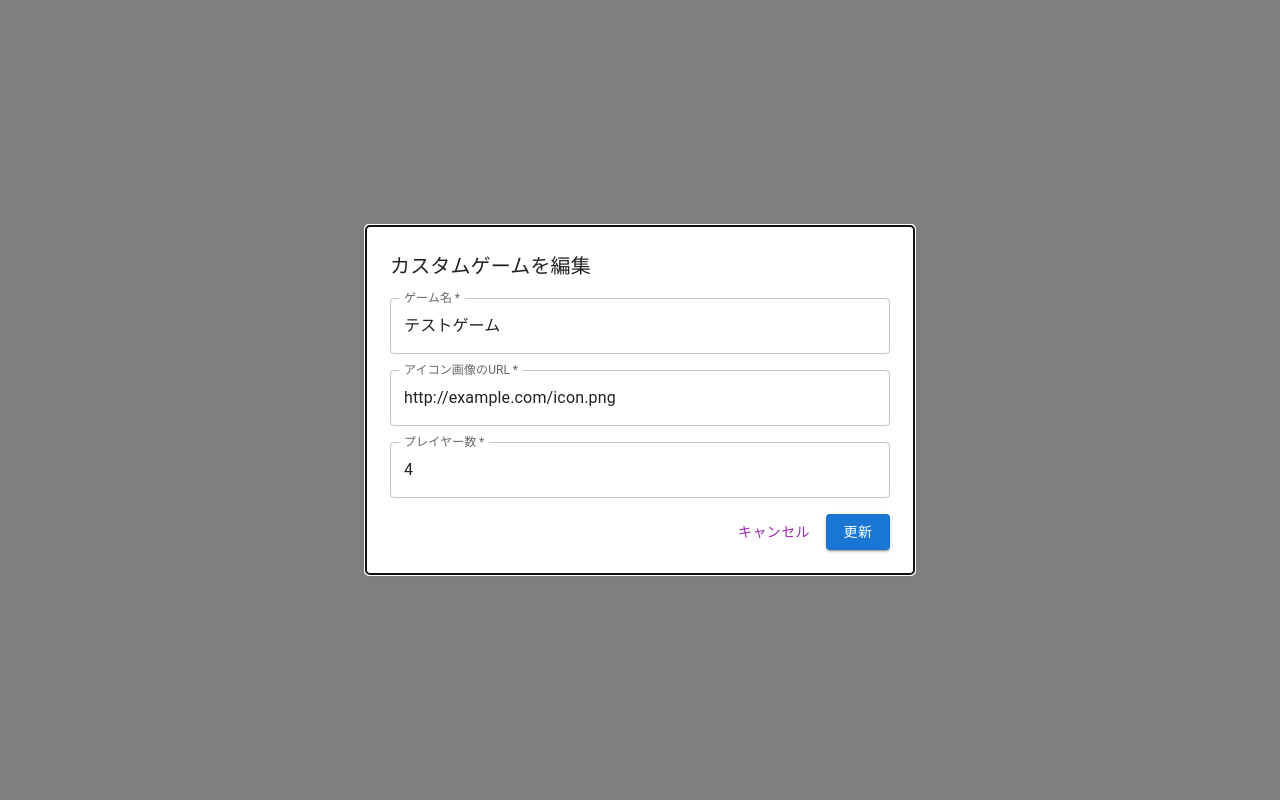
it: EditGameModal › 無効な値を入力すると、バリデーションエラーが表示される
Expected: the heading "カスタムゲームを編集" is shown, [390, 254, 591, 278]
userEvent を使用して入力とクリックを行う
Clear the field labelled "ゲーム名" at (640, 326), box [390, 298, 890, 354]
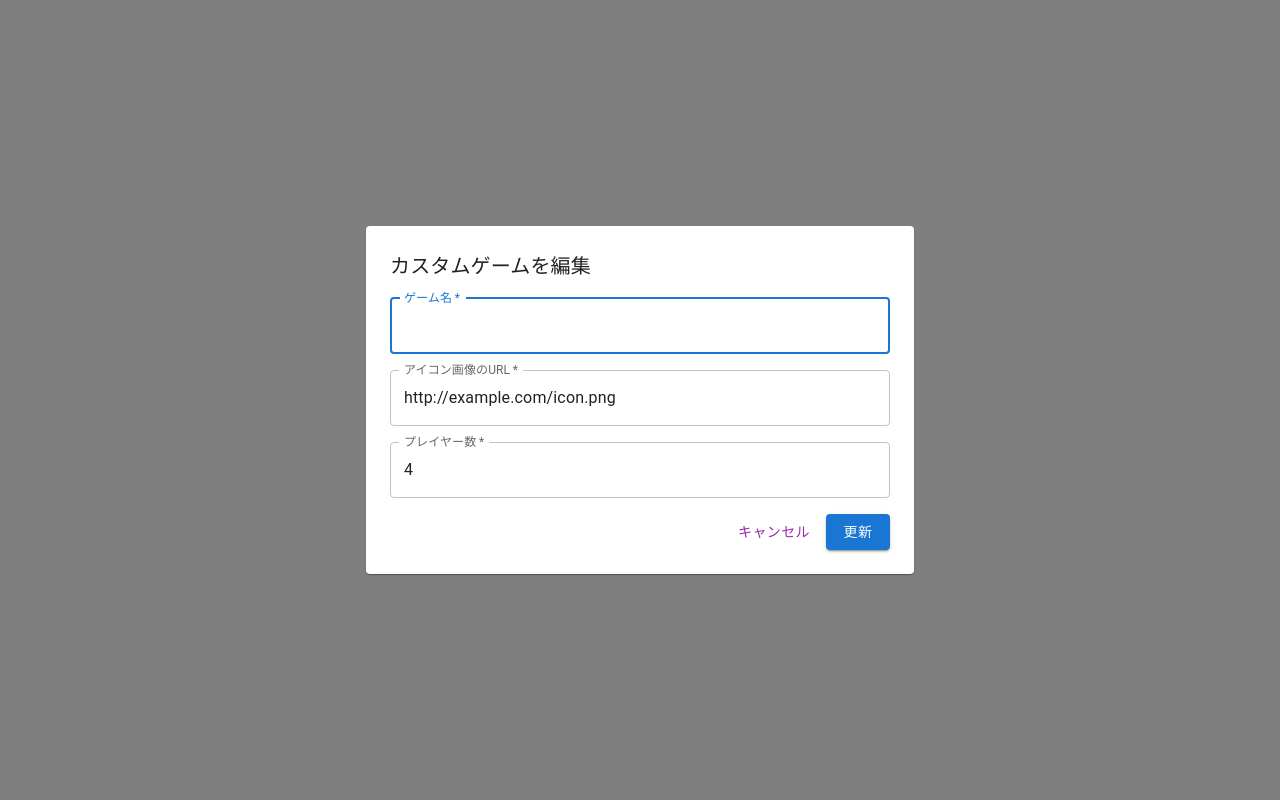
Clear the field labelled "アイコン画像のURL" at (640, 398), box [390, 370, 890, 426]
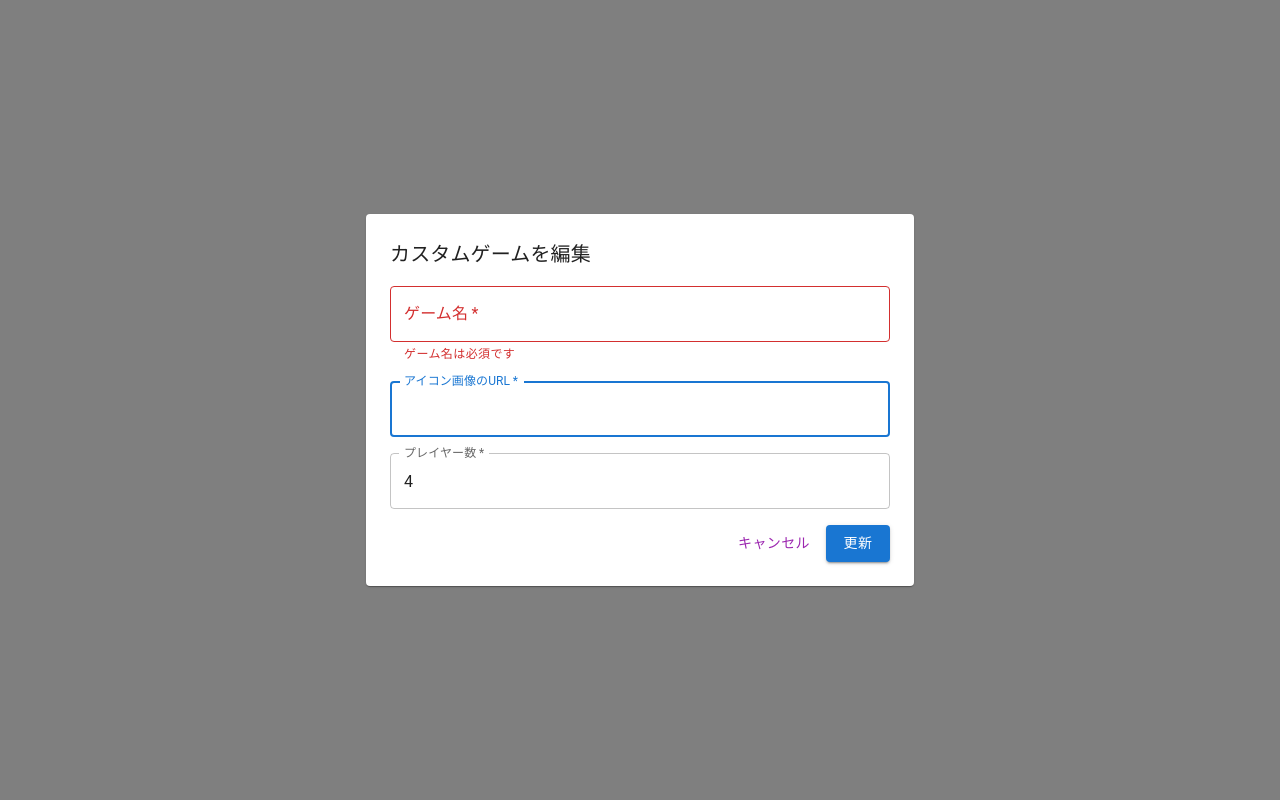
Type "invalid-url" into the field labelled "アイコン画像のURL" at (640, 409), box [390, 381, 890, 437]
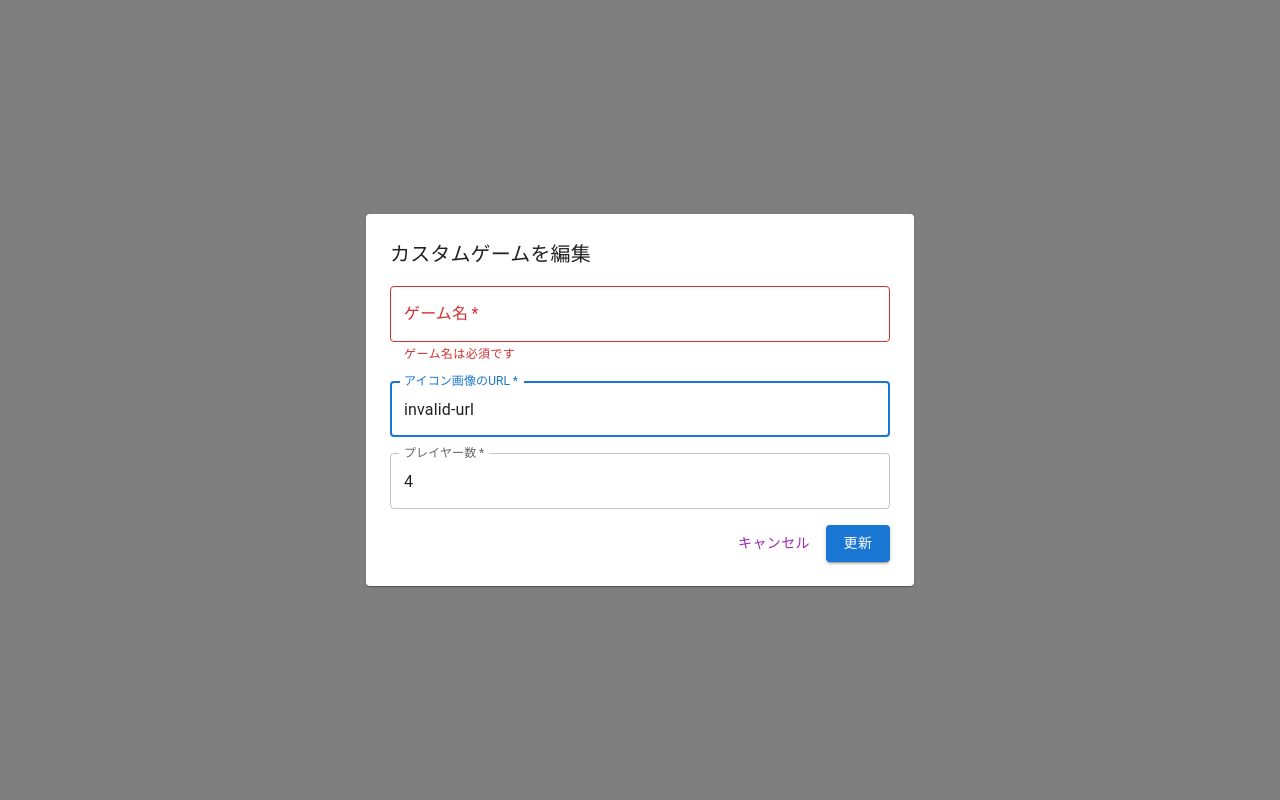
Clear the number field labelled "プレイヤー数" at (640, 481), box [390, 453, 890, 509]
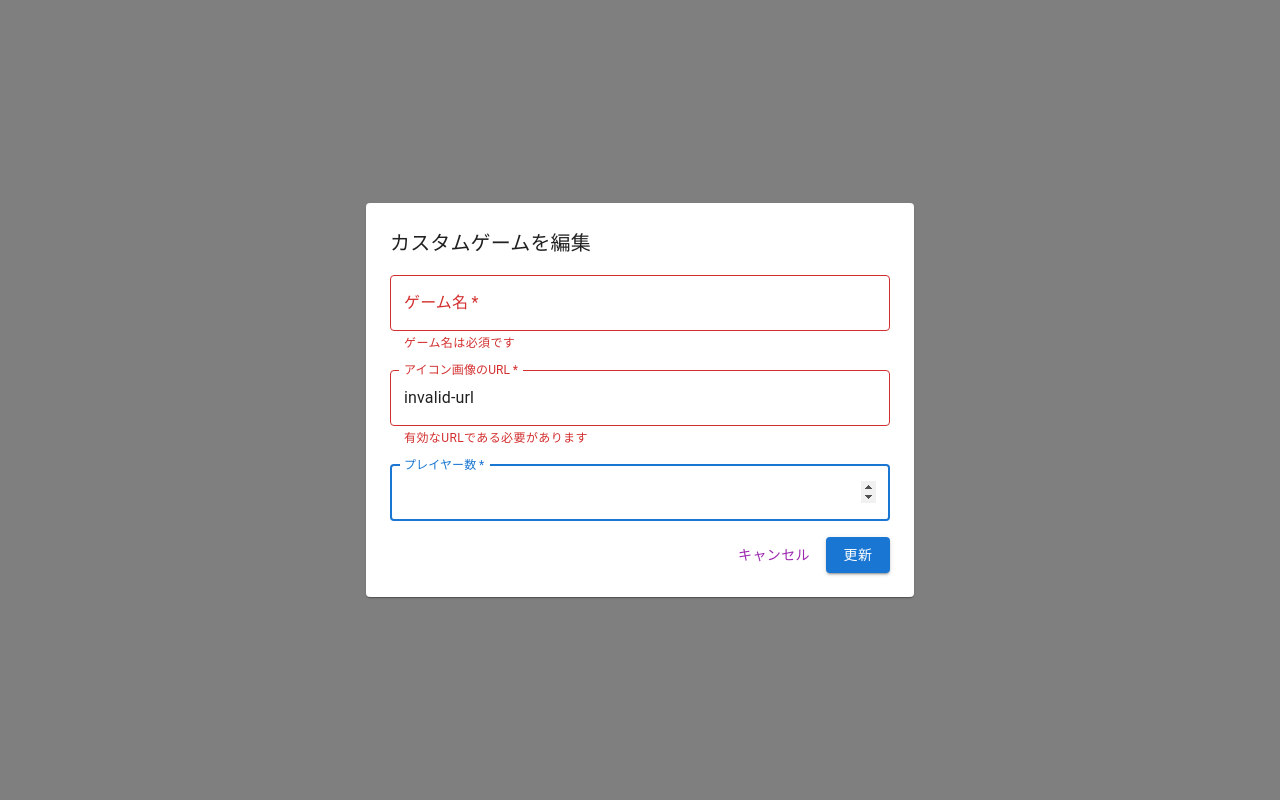
Type "0" into the number field labelled "プレイヤー数" at (640, 493), box [390, 465, 890, 521]
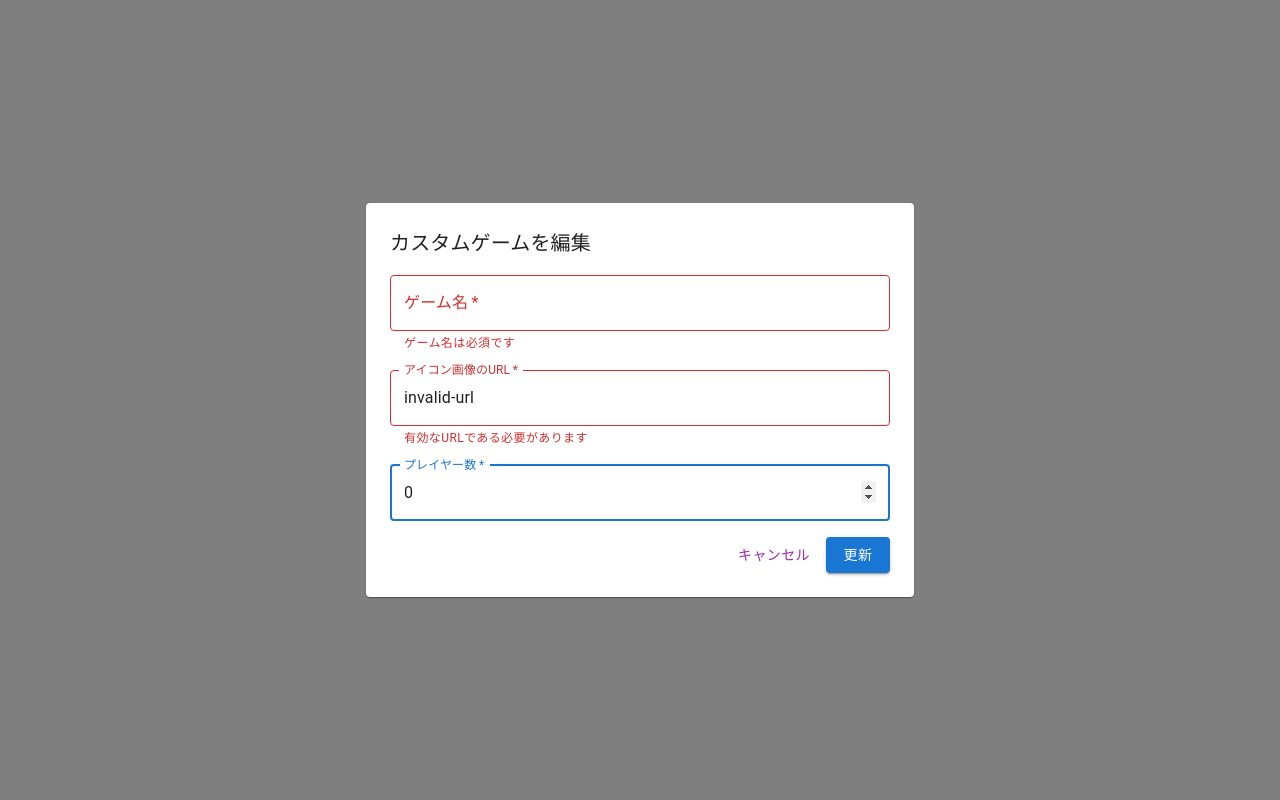
Click the button "更新" at (858, 555), box [826, 537, 890, 573]
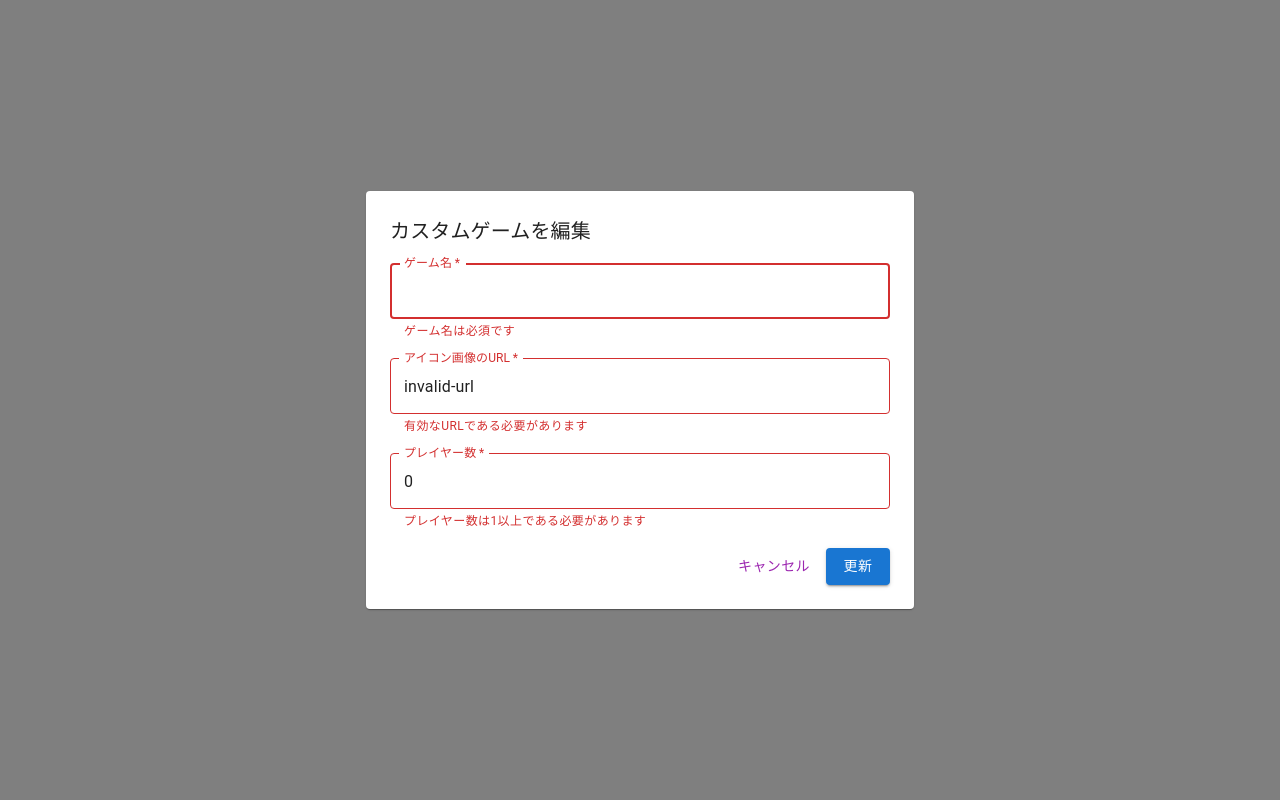
Result: the text "ゲーム名は必須です" is shown at [404, 324, 515, 338]
Result: the text "有効なURLである必要があります" is shown at [404, 419, 588, 433]
Result: the text "プレイヤー数は1以上である必要があります" is shown at [404, 514, 646, 528]
